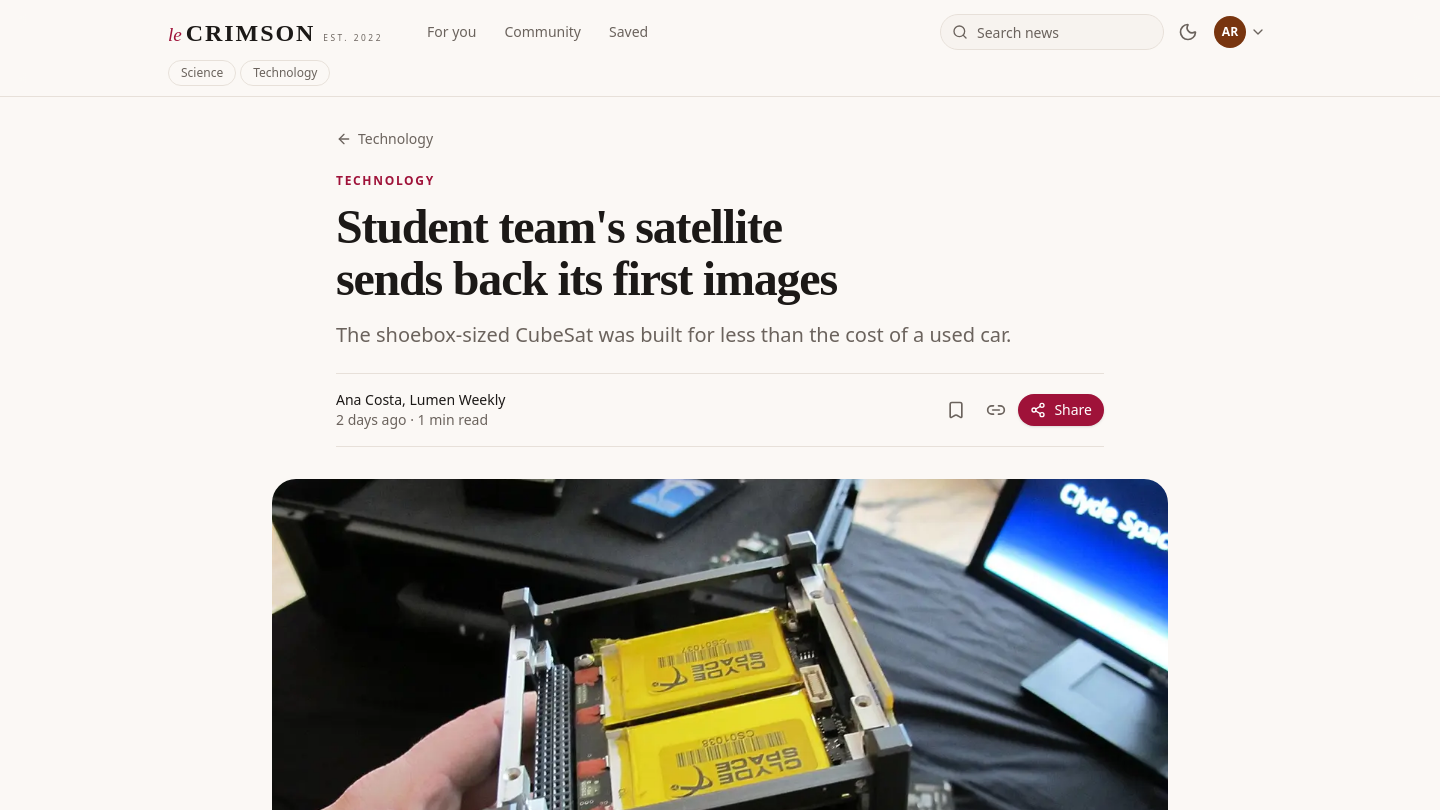
it: app journeys › shares an article to the community feed
Check: the heading "Student team's satellite sends back its first images" is shown, box [336,200,837,305]
Click the button "Share" at (1061, 410), box [1018,394,1104,426]
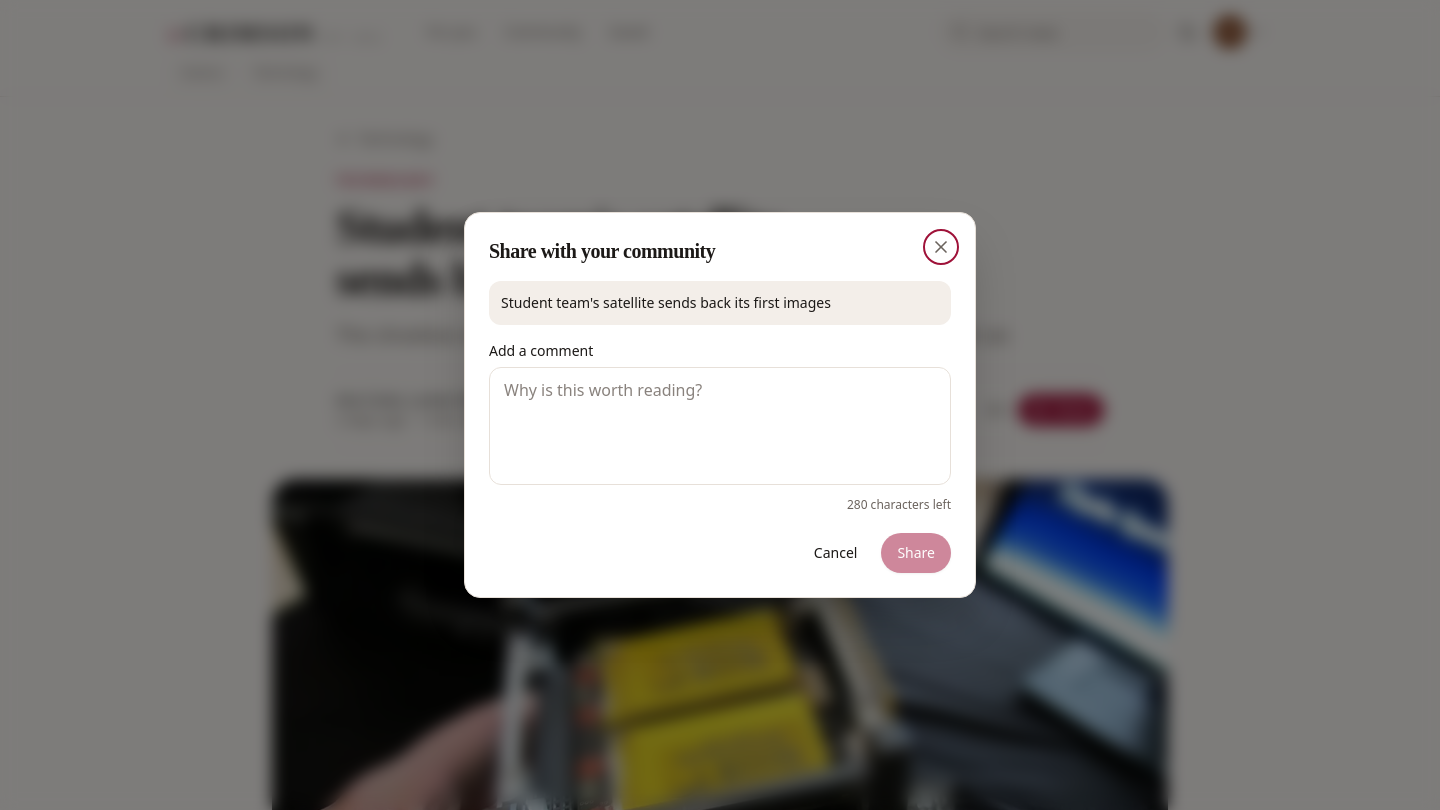
Type "Tiny satellites, big ideas" into the text box labelled "Add a comment" at (720, 426), box [489,367,951,485]
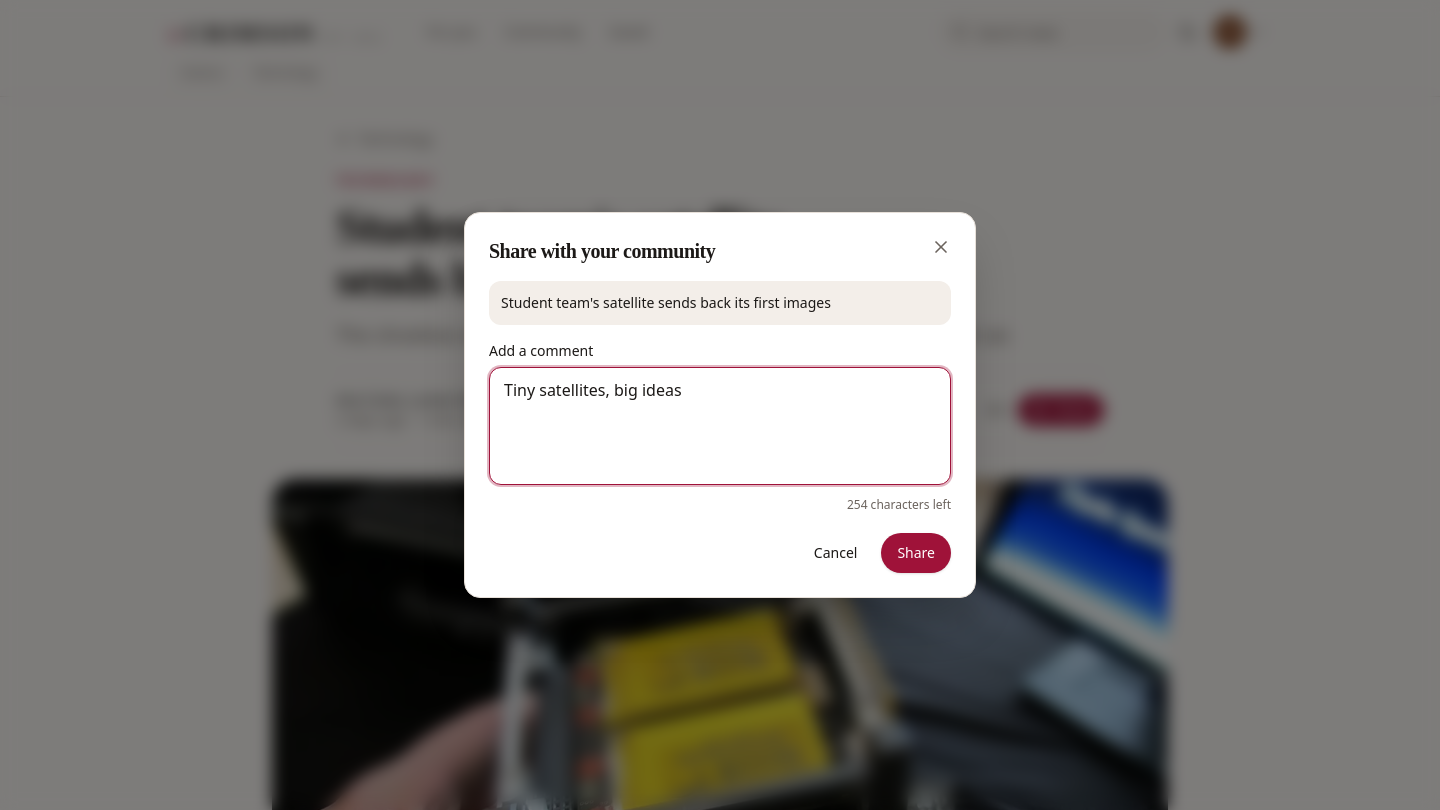
Click the button "Share" at (916, 553), box [881,533,951,573]
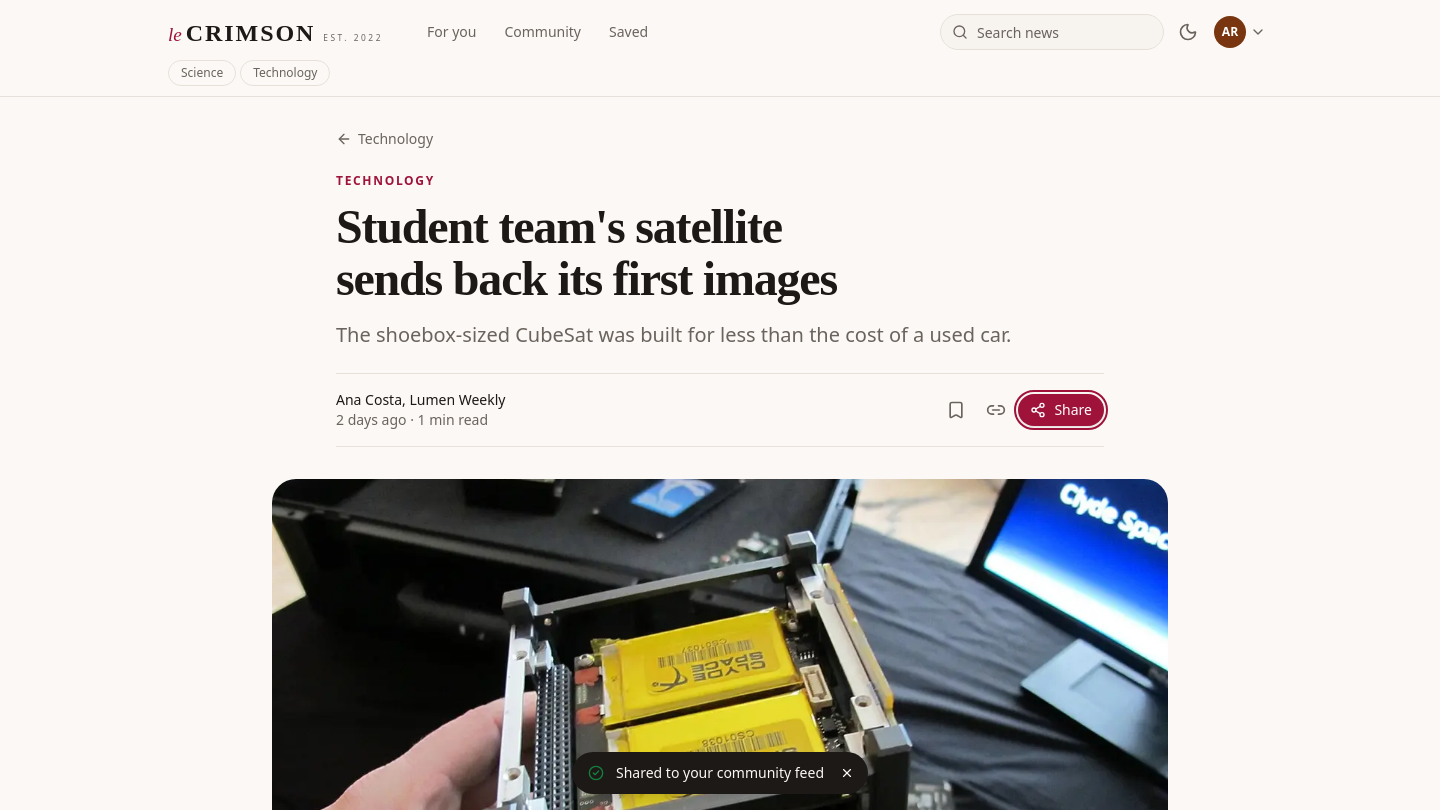
Check: the text "Shared to your community feed" is shown, box [572,752,868,794]
Click the link "Community" at (543, 32), box [504,22,581,41]
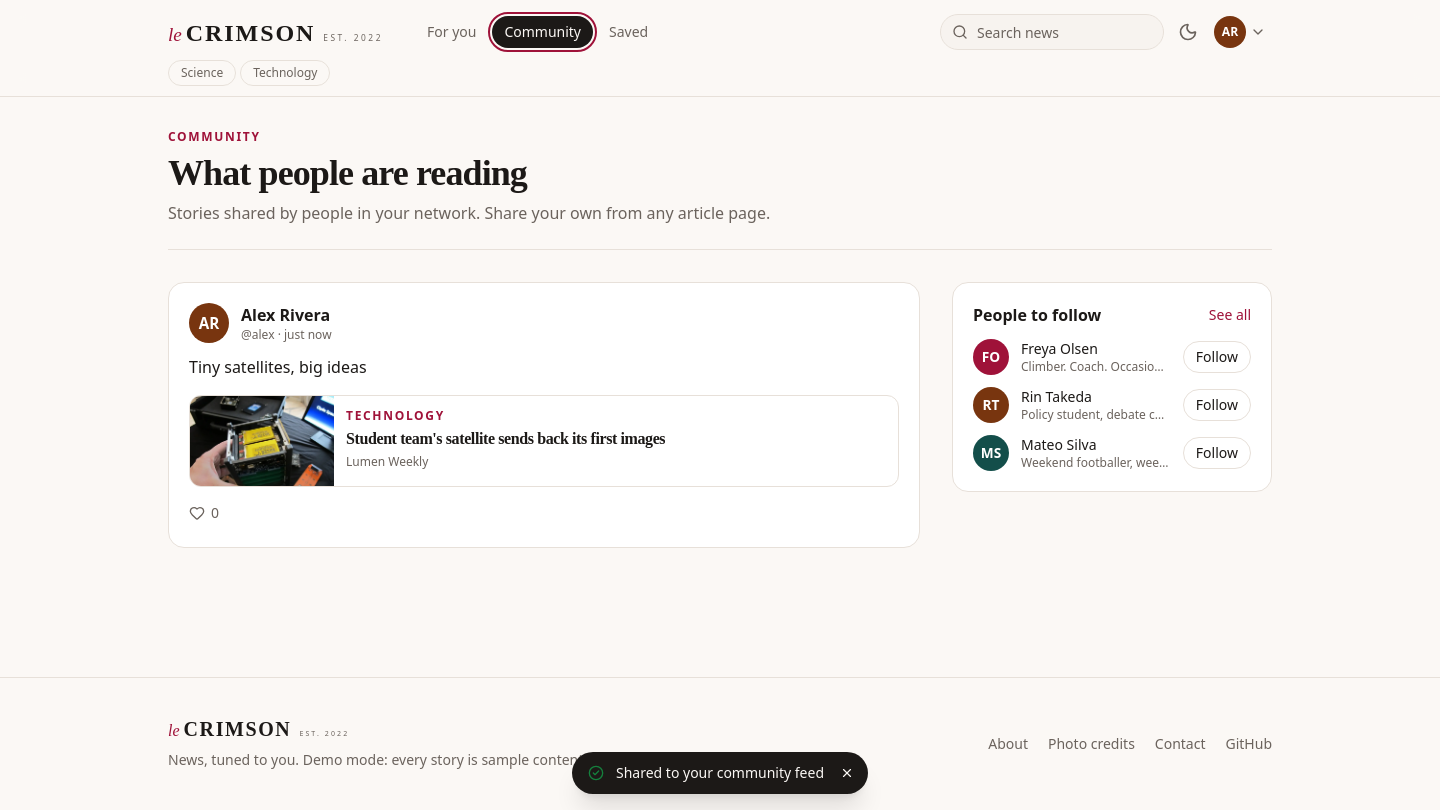
Check: the text "Tiny satellites, big ideas" is shown, box [189,356,367,378]
